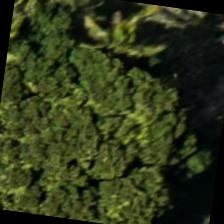Kelapa_Sawit: (65, 0, 167, 95)
